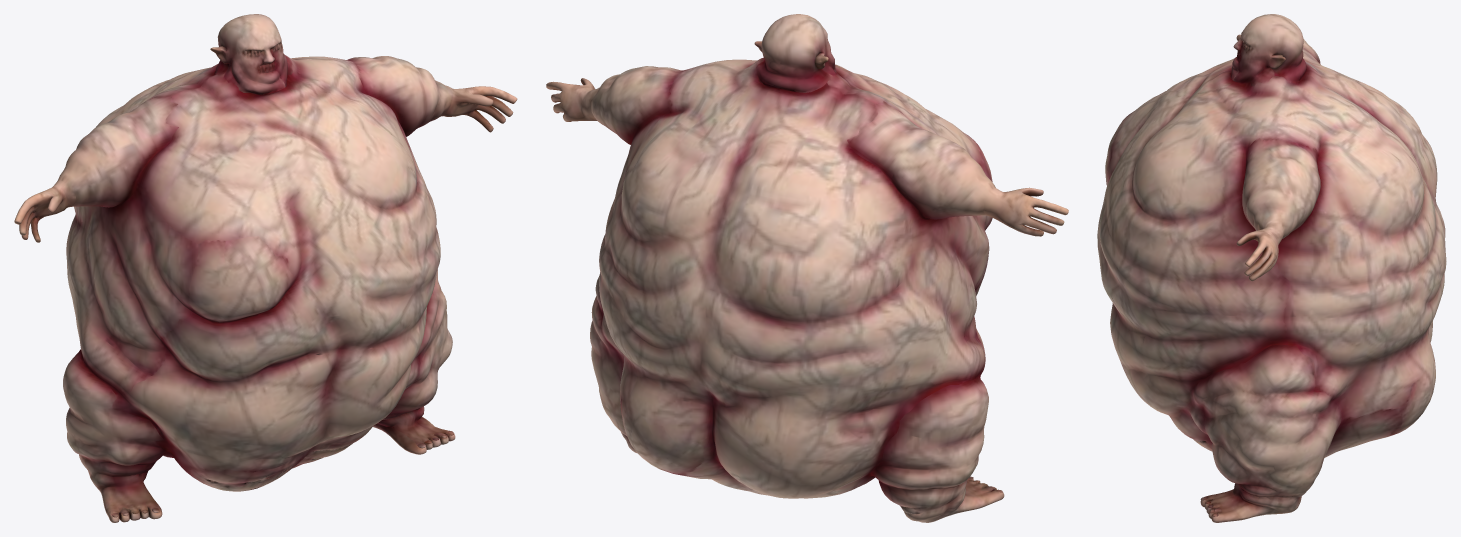
The model's file is MZ4250 - Nupperibo.glb.
3 renders of one model, left to right at view 1: azimuth 30°, elevation 25°; view 2: azimuth 150°, elevation 25°; view 3: azimuth 270°, elevation 25°, orthographic. The views are drawn at different scales.
Parts seen in each view (by area): view 1: ORGANIC BASE SPHERE.001; view 2: ORGANIC BASE SPHERE.001; view 3: ORGANIC BASE SPHERE.001.
Part boxes in pixels (<box>): ORGANIC BASE SPHERE.001: <box>14,14,517,522</box>; ORGANIC BASE SPHERE.001: <box>546,14,1068,522</box>; ORGANIC BASE SPHERE.001: <box>1097,14,1446,522</box>.
Size of the model in its own units: 0.9126 by 0.7756 by 0.5729.
Materials: 1 (1 with a texture image).
